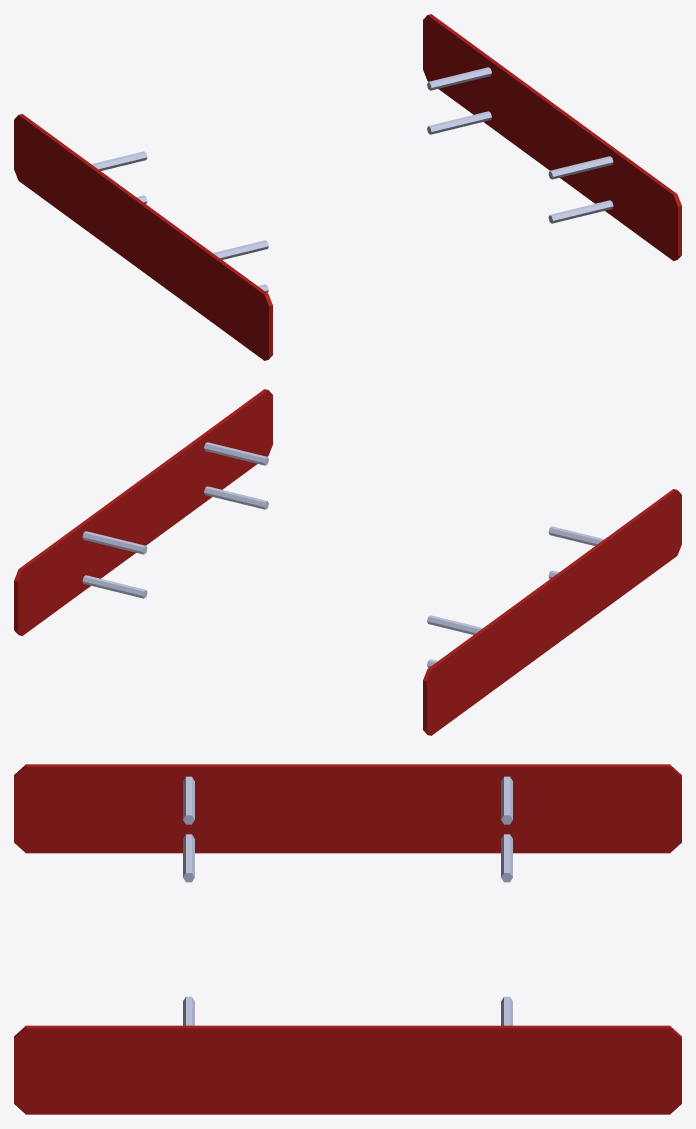
File: Frame_Bumpers_FBX.fbx
3 renders of one model, top to bottom at view 1: azimuth 30°, elevation 25°; view 2: azimuth 150°, elevation 25°; view 3: azimuth 270°, elevation 25°, orthographic. The views are drawn at different scales.
Visible parts, largest first — view 1: Body6, Body5, Body2, Body1, Body3, Body4; view 2: Body6, Body5, Body4, Body3, Body1, Body2; view 3: Body5, Body6, Body7, Body8, Body9, Body10.
Part boxes in pixels (box(x1,y1,x2,y2)): Body6: box(14, 114, 272, 360); Body5: box(423, 14, 681, 260); Body2: box(548, 200, 613, 223); Body1: box(548, 156, 613, 179); Body3: box(427, 67, 491, 90); Body4: box(427, 111, 491, 134); Body6: box(423, 489, 681, 735); Body5: box(14, 389, 272, 635); Body4: box(82, 575, 147, 598); Body3: box(82, 531, 147, 554); Body1: box(204, 442, 268, 465); Body2: box(204, 486, 268, 509); Body5: box(14, 1025, 681, 1114); Body6: box(14, 764, 681, 853); Body7: box(183, 776, 194, 824); Body8: box(183, 834, 194, 882); Body9: box(501, 834, 512, 882); Body10: box(501, 776, 512, 824).
Size of the model in its own units: 314 by 48 by 336.
